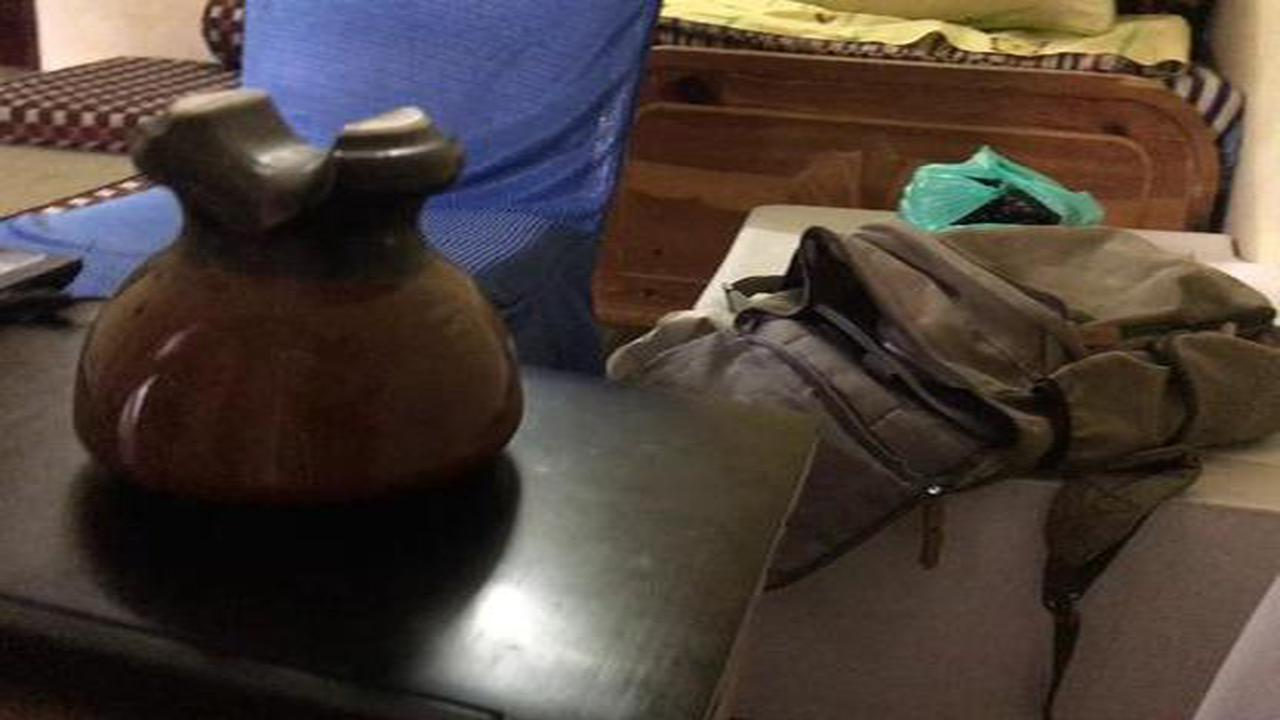insulator_pin: (62, 85, 548, 527)
